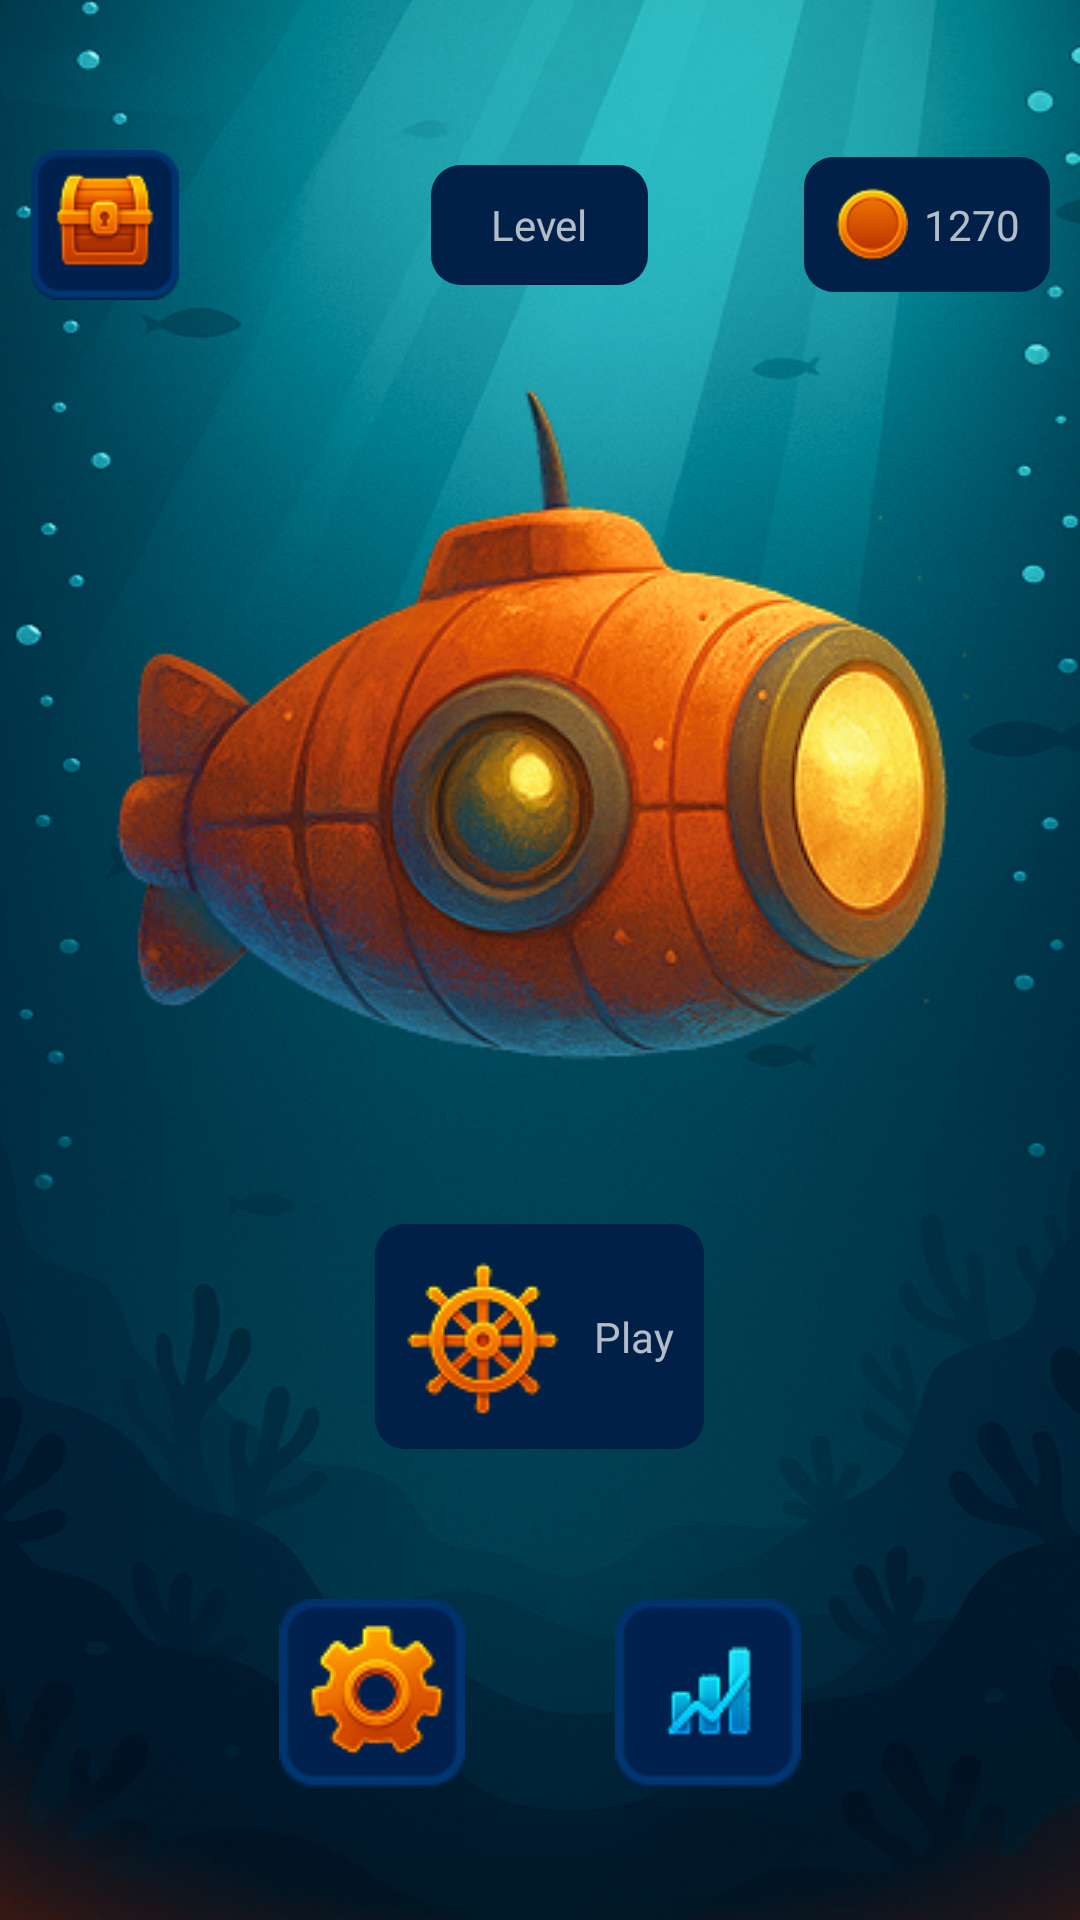

Icons on this 1080x1920 Android screen, each with the point to tap as point (x, y):
coin: point (872, 224)
setting: point (372, 1692)
shop: point (105, 225)
statistics: point (708, 1692)
